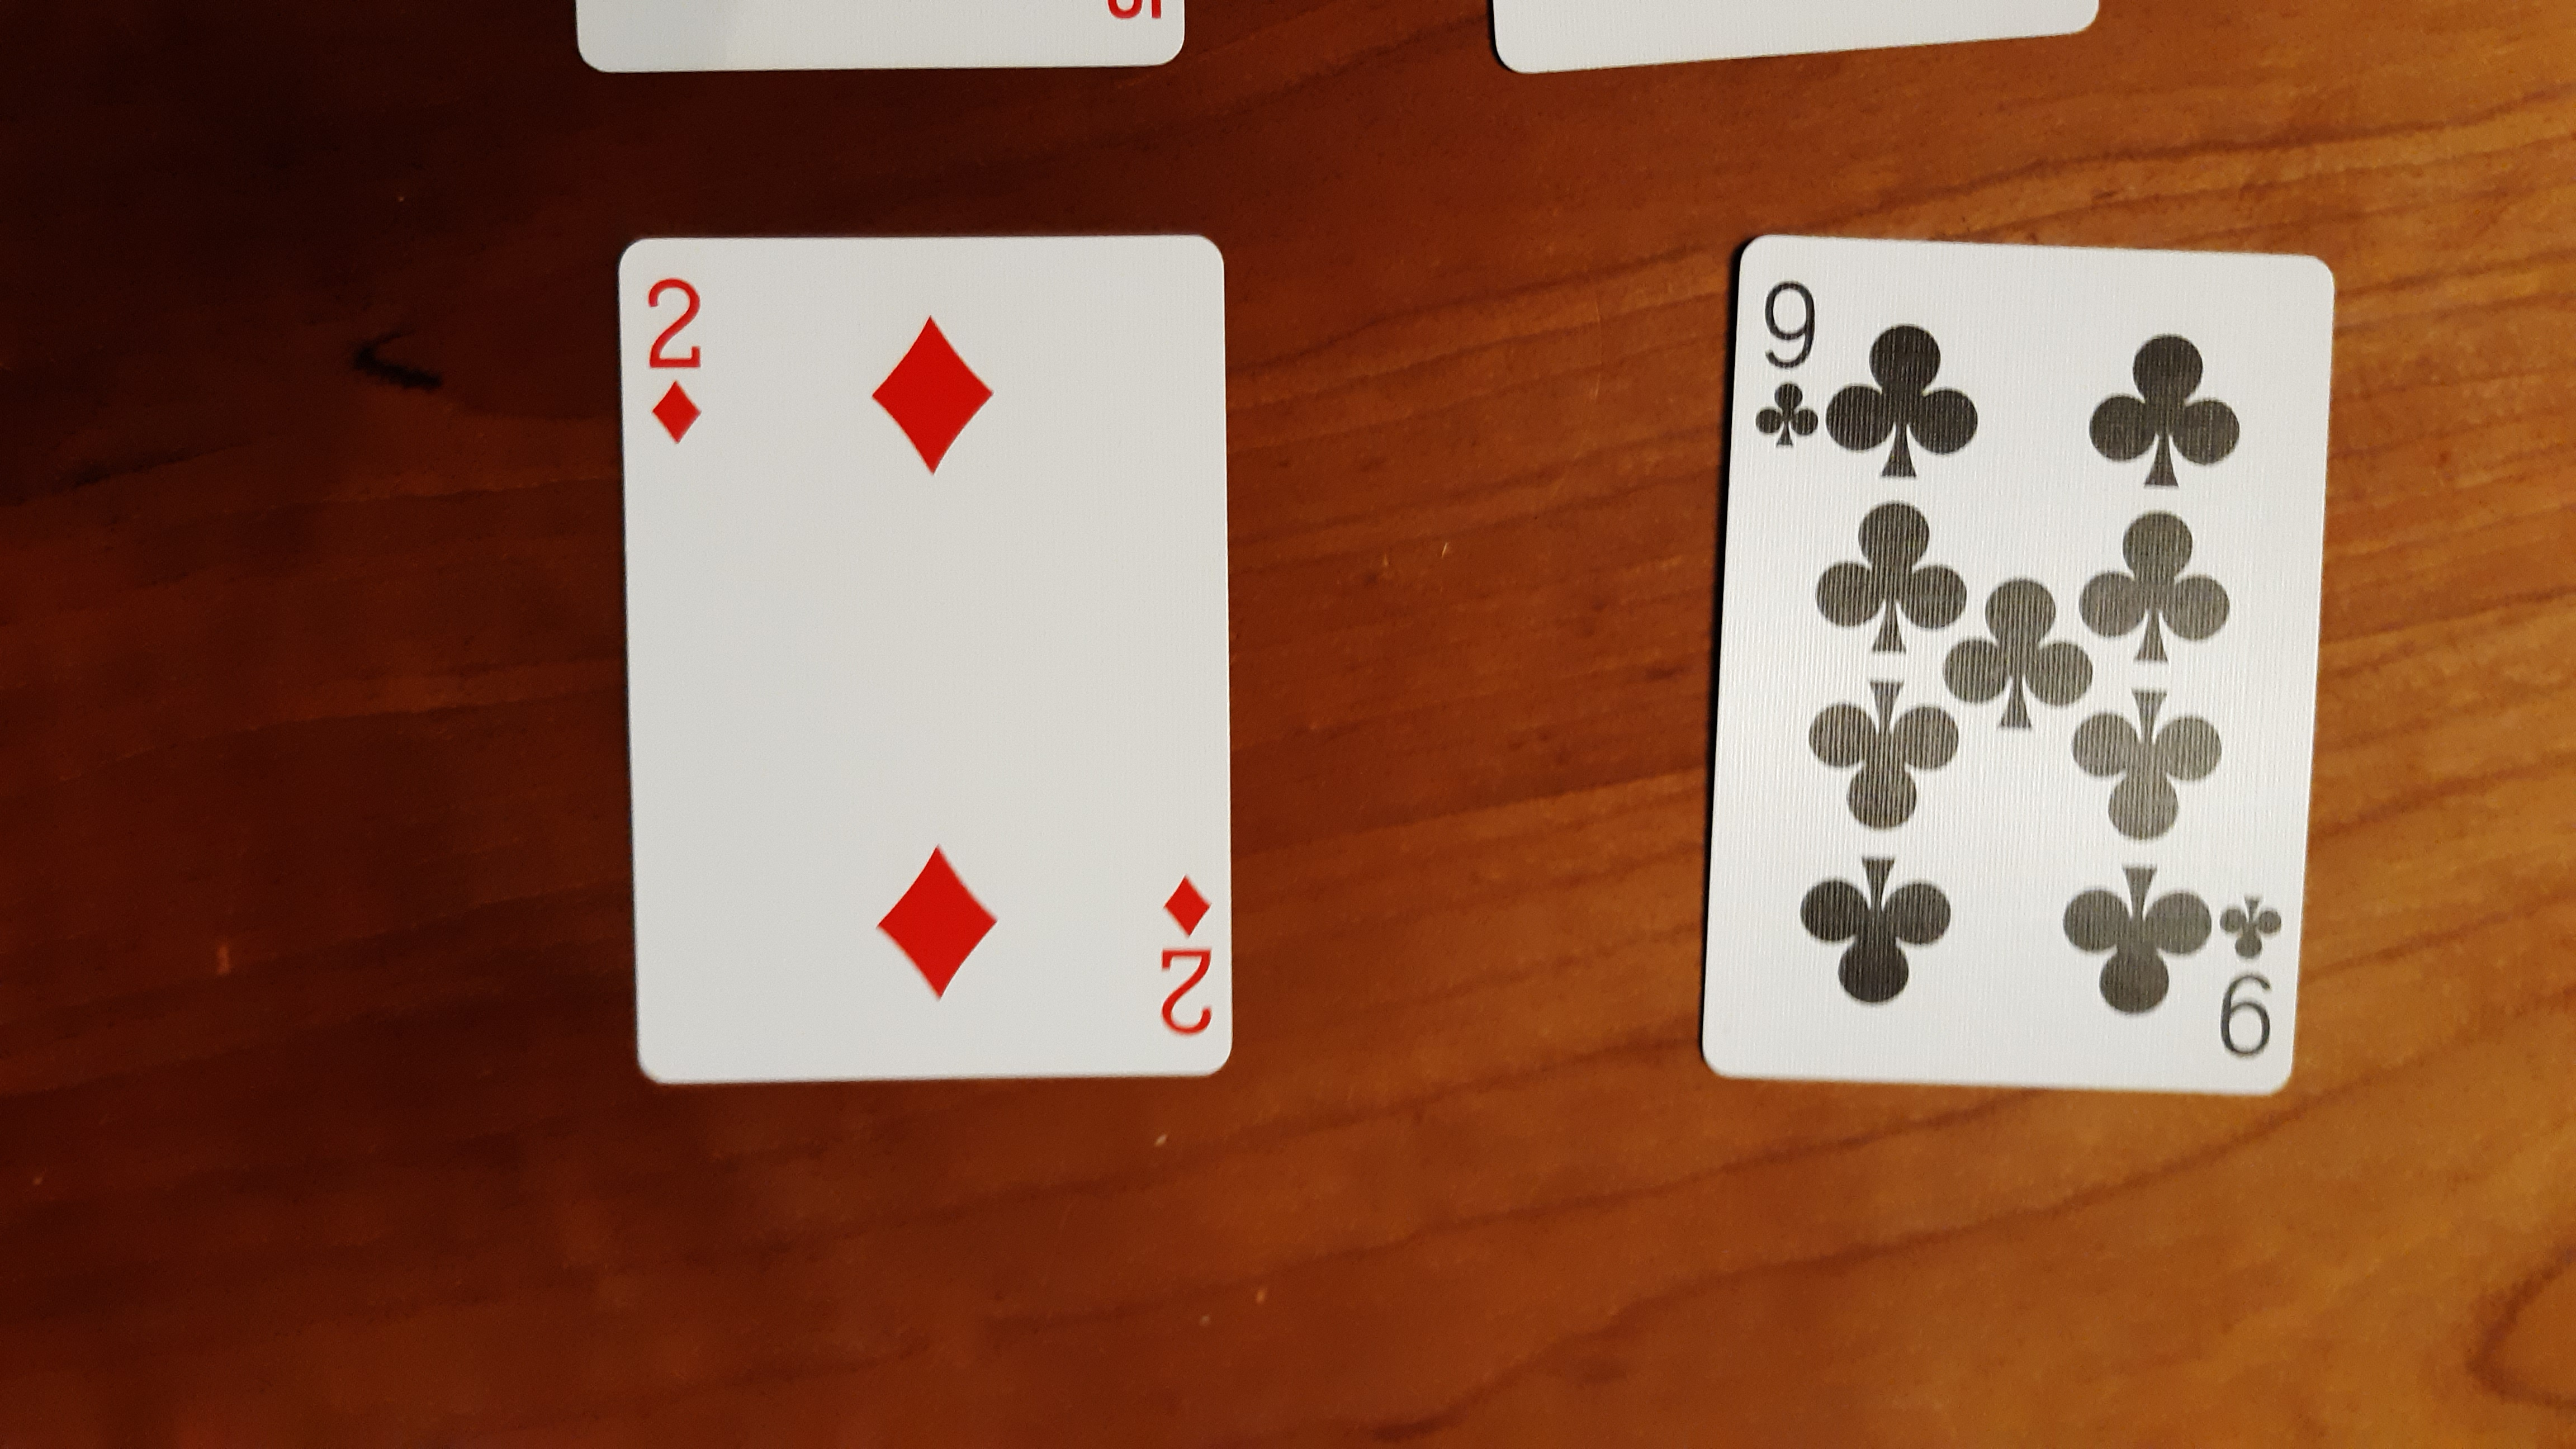Black_Club_9: (1744, 269, 2298, 1063)
Red_Diamond_2: (639, 267, 722, 446), (1150, 865, 1228, 1042)
